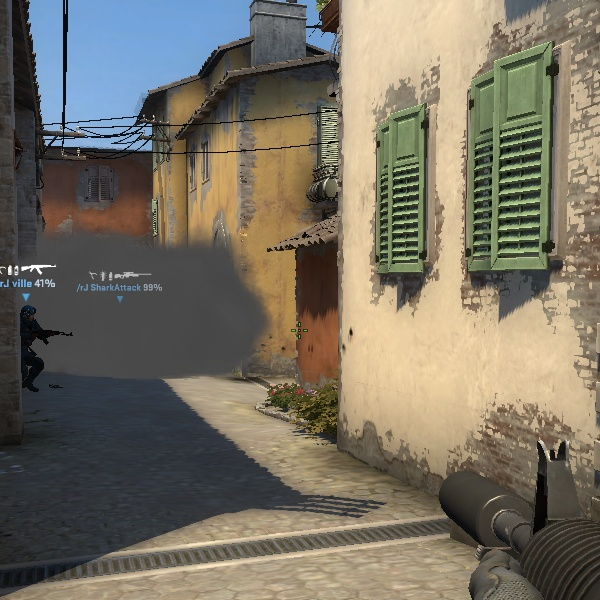ct_body: (14, 299, 56, 394)
